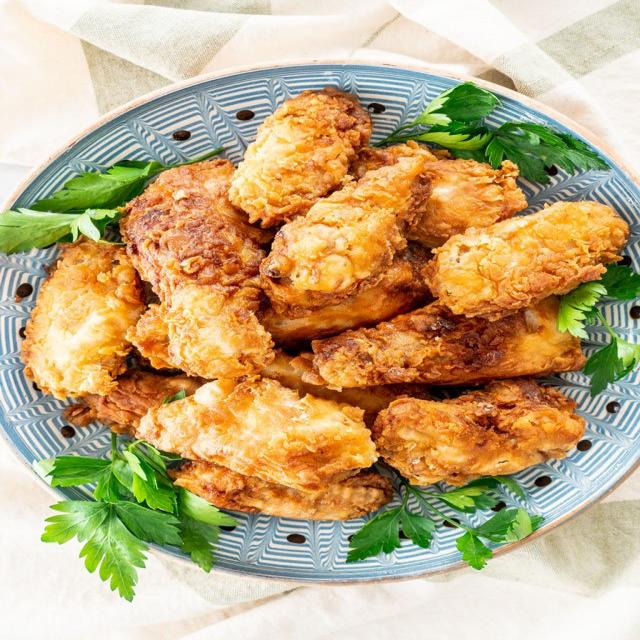Frango: (130, 351, 390, 496), (306, 272, 596, 386), (413, 191, 630, 319), (372, 378, 599, 488), (225, 82, 388, 226), (23, 231, 157, 403)
